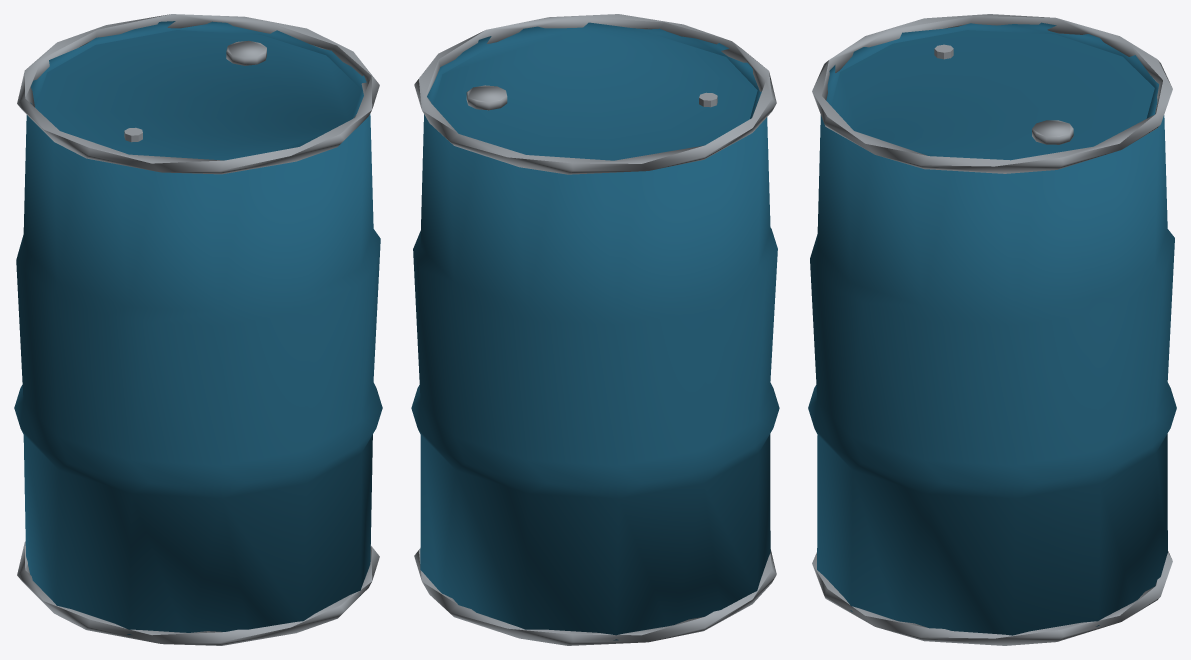
The model's file is tambor-leve.glb.
3 renders of one model, left to right at view 1: azimuth 30°, elevation 25°; view 2: azimuth 150°, elevation 25°; view 3: azimuth 270°, elevation 25°, orthographic.
Visible parts, largest first — view 1: corpo, virola.001, virola, bocal; view 2: corpo, virola.001, virola, bocal; view 3: corpo, virola.001, virola, bocal.
Part boxes in pixels (bbox=[...]): corpo: bbox=[14, 21, 382, 634]; virola.001: bbox=[17, 14, 379, 174]; virola: bbox=[17, 541, 379, 645]; bocal: bbox=[226, 40, 266, 65]; corpo: bbox=[411, 22, 779, 640]; virola.001: bbox=[414, 14, 776, 174]; virola: bbox=[414, 548, 776, 645]; bocal: bbox=[466, 85, 507, 110]; corpo: bbox=[808, 22, 1176, 635]; virola.001: bbox=[812, 14, 1172, 173]; virola: bbox=[812, 551, 1172, 645]; bocal: bbox=[1032, 120, 1073, 144].
Size of the model in its own units: 0.6106 by 0.8864 by 0.6106.
